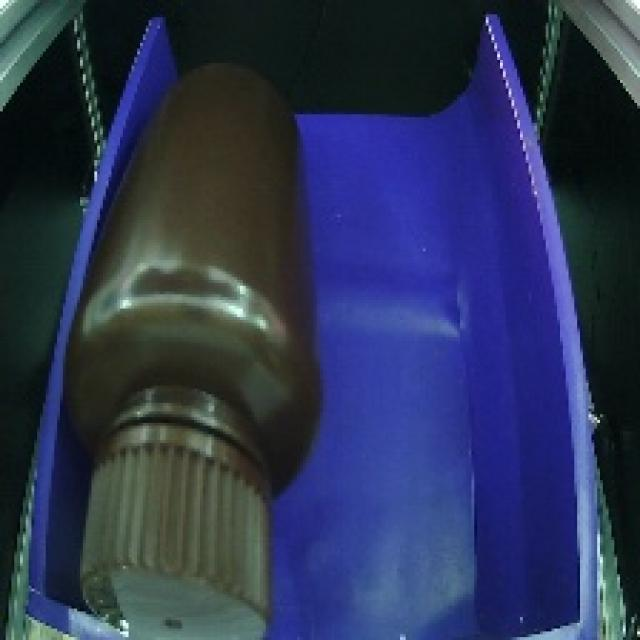plastic: (48, 28, 320, 640)
